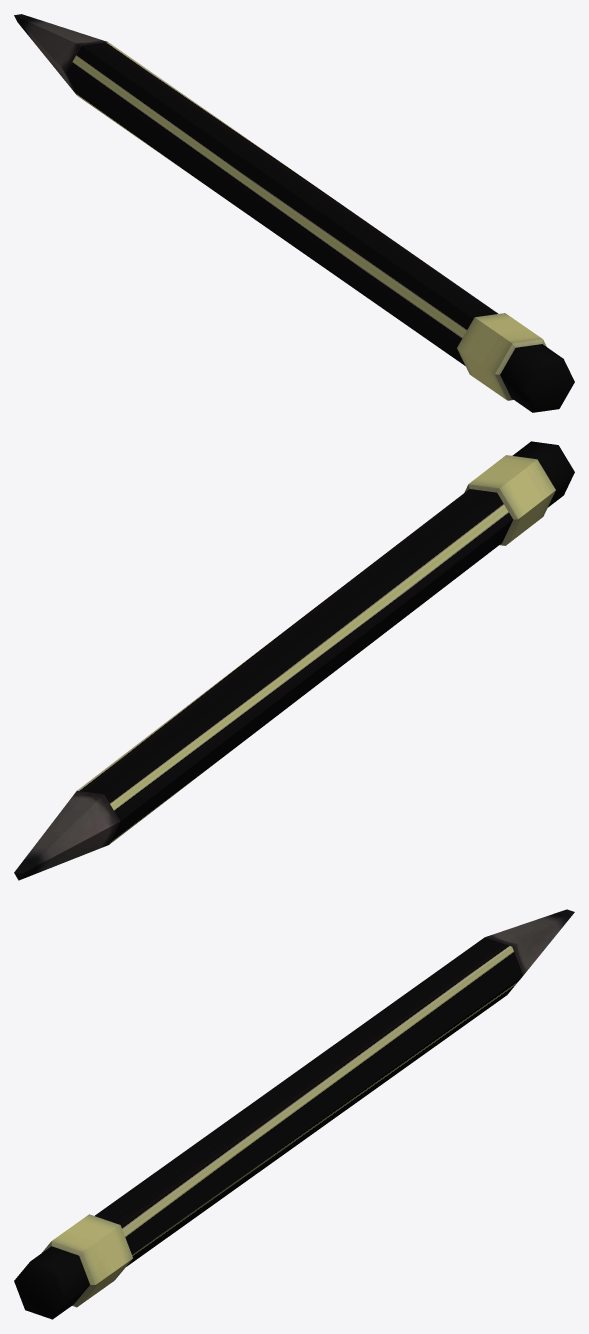
File: Pencil.FBX
3 renders of one model, top to bottom at view 1: azimuth 30°, elevation 25°; view 2: azimuth 150°, elevation 25°; view 3: azimuth 330°, elevation 25°, orthographic.
Parts seen in each view (by area): view 1: Cylinder010; view 2: Cylinder010; view 3: Cylinder010.
Part boxes in pixels (left/top/right/bottom): Cylinder010: left=14, top=14, right=574, bottom=412; Cylinder010: left=14, top=441, right=574, bottom=880; Cylinder010: left=14, top=909, right=574, bottom=1319.
Bounding box in the file's own units: 4.05 × 4.19 × 59.95.
Materials: 1 (1 with a texture image).
